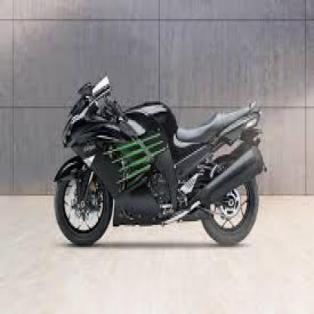Motocicleta: (51, 68, 269, 256)
